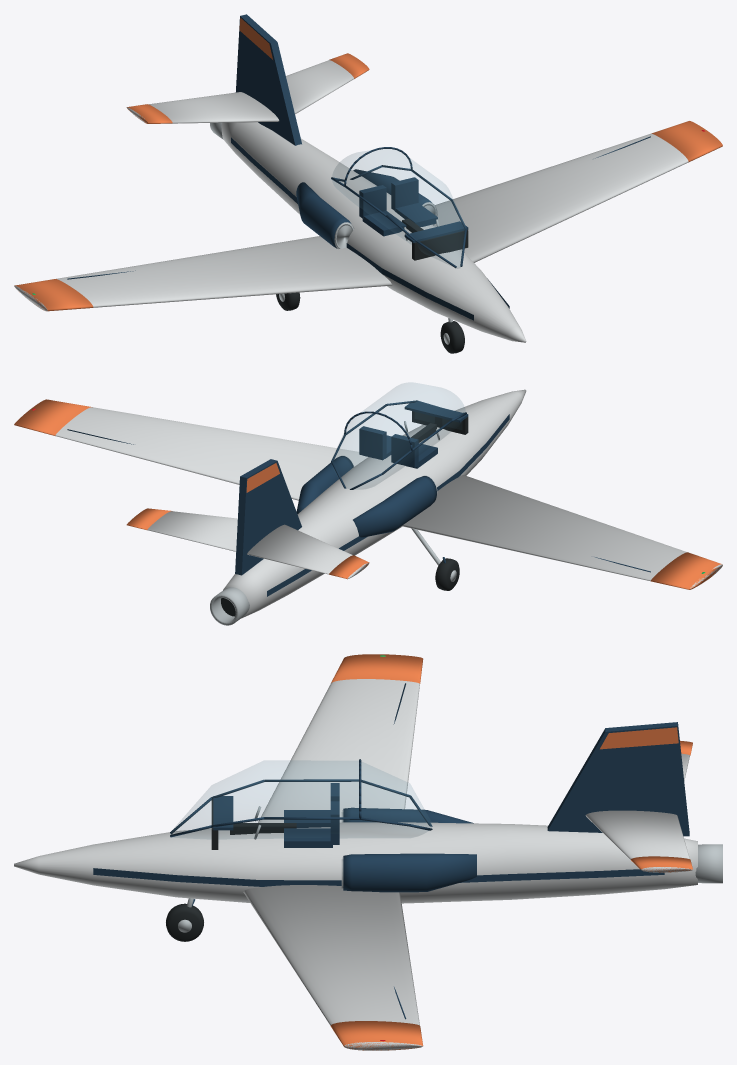
Rendered from kestrel_jet_trainer.glb.
The picture shows the model from 3 angles, top to bottom: view 1: azimuth 30°, elevation 25°; view 2: azimuth 150°, elevation 25°; view 3: azimuth 270°, elevation 25°; orthographic projection. The views are drawn at different scales.
Parts seen in each view (by area): view 1: Fuselage | physical CG origin, Starboard low wing, Port low wing, Canopy | clear bubble shell, Vertical tail | swept fin, Starboard horizontal tail, Port horizontal tail, Starboard intake housing, Port copper tip, Starboard copper tip, Starboard navy side ribbon, Interior | instrument panel (+6 smaller); view 2: Starboard low wing, Fuselage | physical CG origin, Port low wing, Canopy | clear bubble shell, Vertical tail | swept fin, Starboard horizontal tail, Starboard intake housing, Port horizontal tail, Starboard copper tip, Port copper tip, Port intake housing, Single rear dry exhaust (+10 smaller); view 3: Fuselage | physical CG origin, Port low wing, Canopy | clear bubble shell, Starboard low wing, Vertical tail | swept fin, Port intake housing, Port horizontal tail, Port navy side ribbon, Starboard copper tip, Port copper tip, Starboard intake housing, Port fin copper flash (+9 smaller).
Part boxes in pixels (bbox=[...]): Fuselage | physical CG origin: bbox=[221, 122, 526, 342]; Starboard low wing: bbox=[14, 236, 392, 311]; Port low wing: bbox=[434, 133, 688, 262]; Canopy | clear bubble shell: bbox=[333, 149, 465, 268]; Vertical tail | swept fin: bbox=[235, 14, 301, 145]; Starboard horizontal tail: bbox=[126, 92, 279, 123]; Port horizontal tail: bbox=[286, 60, 353, 114]; Starboard intake housing: bbox=[296, 182, 351, 248]; Port copper tip: bbox=[651, 121, 722, 162]; Starboard copper tip: bbox=[14, 279, 93, 311]; Starboard navy side ribbon: bbox=[231, 137, 473, 320]; Interior | instrument panel: bbox=[412, 230, 468, 260]; Starboard low wing: bbox=[401, 475, 722, 589]; Fuselage | physical CG origin: bbox=[223, 389, 526, 618]; Port low wing: bbox=[55, 407, 367, 500]; Canopy | clear bubble shell: bbox=[332, 383, 464, 488]; Vertical tail | swept fin: bbox=[235, 459, 301, 575]; Starboard horizontal tail: bbox=[247, 524, 368, 578]; Starboard intake housing: bbox=[353, 476, 436, 537]; Port horizontal tail: bbox=[147, 511, 237, 551]; Starboard copper tip: bbox=[651, 552, 722, 589]; Port copper tip: bbox=[14, 399, 92, 435]; Port intake housing: bbox=[296, 456, 353, 513]; Single rear dry exhaust: bbox=[210, 587, 249, 625]; Fuselage | physical CG origin: bbox=[14, 822, 697, 903]; Port low wing: bbox=[243, 885, 422, 1050]; Canopy | clear bubble shell: bbox=[171, 761, 431, 838]; Starboard low wing: bbox=[258, 679, 419, 822]; Vertical tail | swept fin: bbox=[547, 722, 689, 836]; Port intake housing: bbox=[343, 853, 476, 892]; Port horizontal tail: bbox=[585, 810, 692, 872]; Port navy side ribbon: bbox=[93, 868, 664, 886]; Starboard copper tip: bbox=[331, 654, 423, 683]; Port copper tip: bbox=[330, 1021, 423, 1050]; Starboard intake housing: bbox=[343, 807, 473, 823]; Port fin copper flash: bbox=[600, 727, 678, 749].
Size of the model in its own units: 11 by 2.86 by 8.5.
